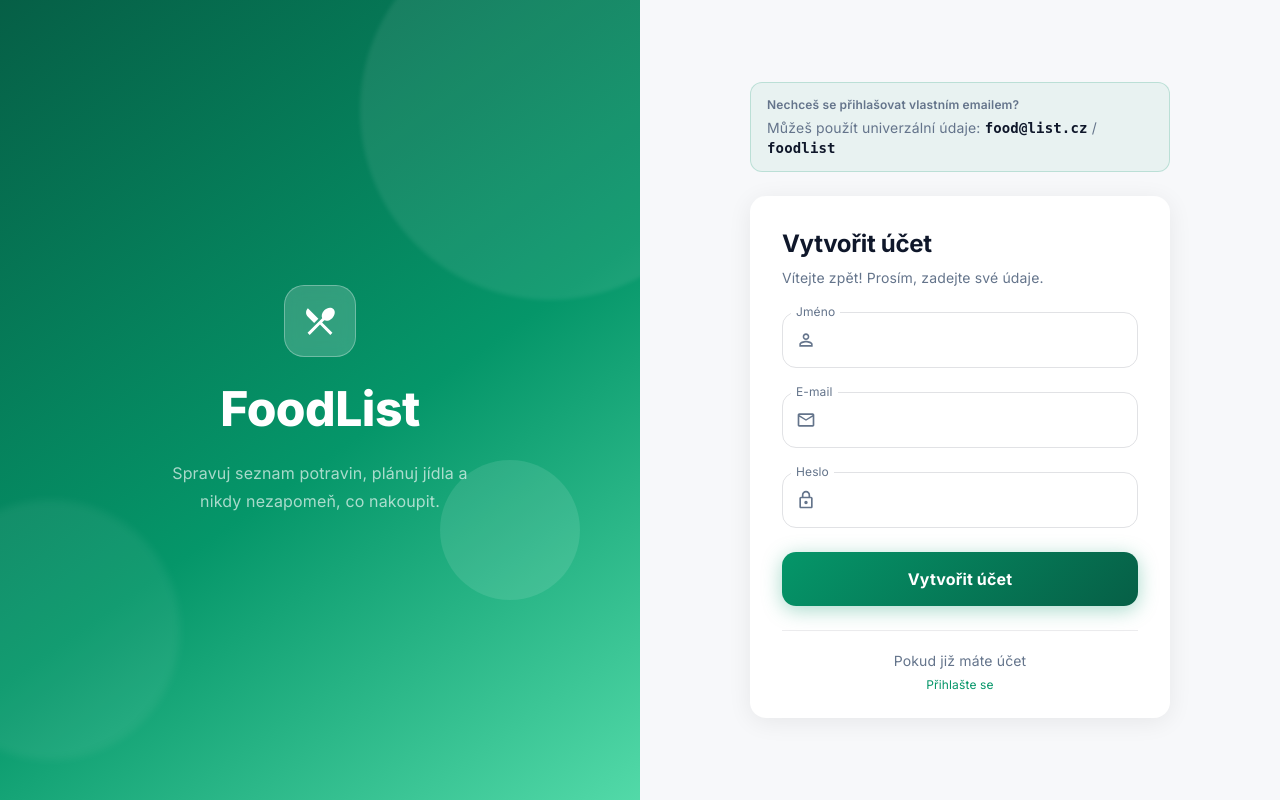
Scenario: AuthForm – Registrace › should show validation errors under inputs when form is submitted empty
What coordinates should you click on to do the following:
click the button "Vytvořit účet"
I would click on:
 (960, 579)
Its box is top-left (782, 552), bottom-right (1138, 606).
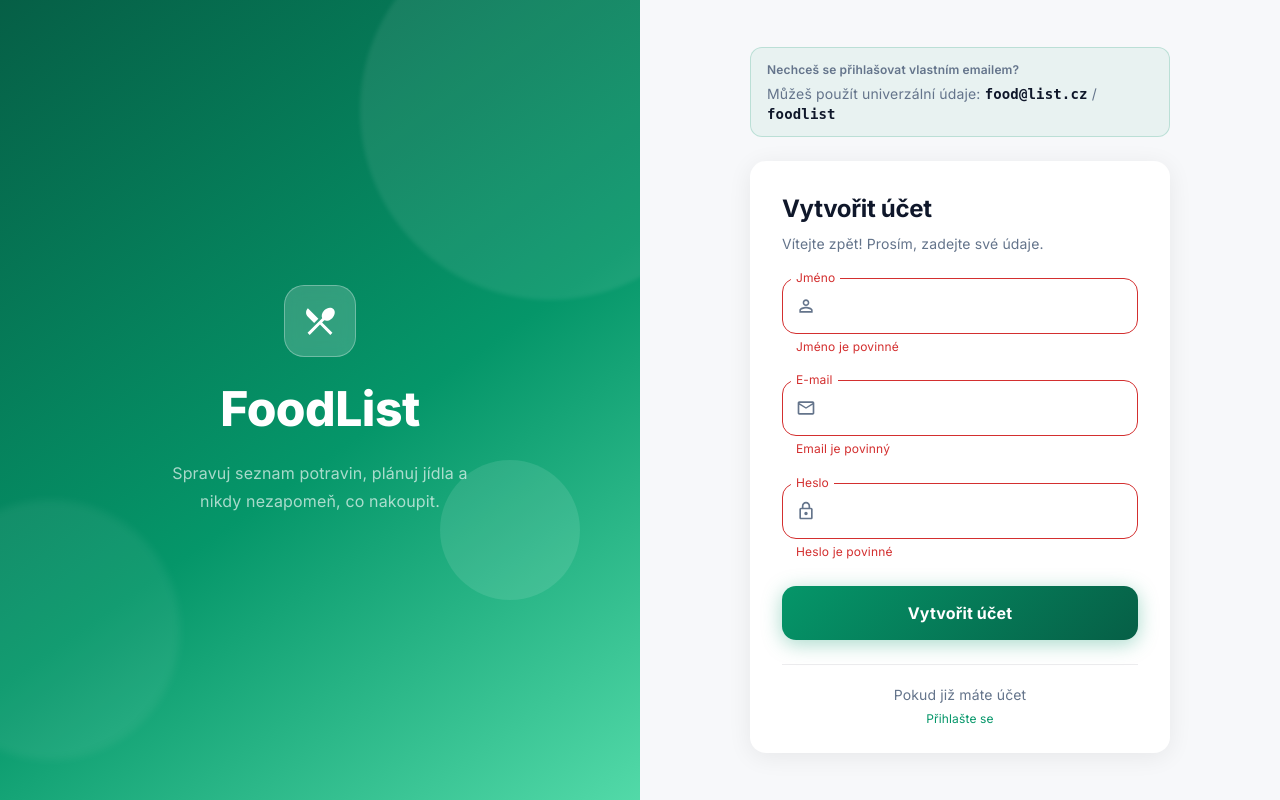
Expected: the text "Jméno je povinné" is shown, top-left (796, 339), bottom-right (899, 354)
Expected: the text "Email je povinný" is shown, top-left (796, 442), bottom-right (890, 456)
Expected: the text "Heslo je povinné" is shown, top-left (796, 544), bottom-right (892, 559)
